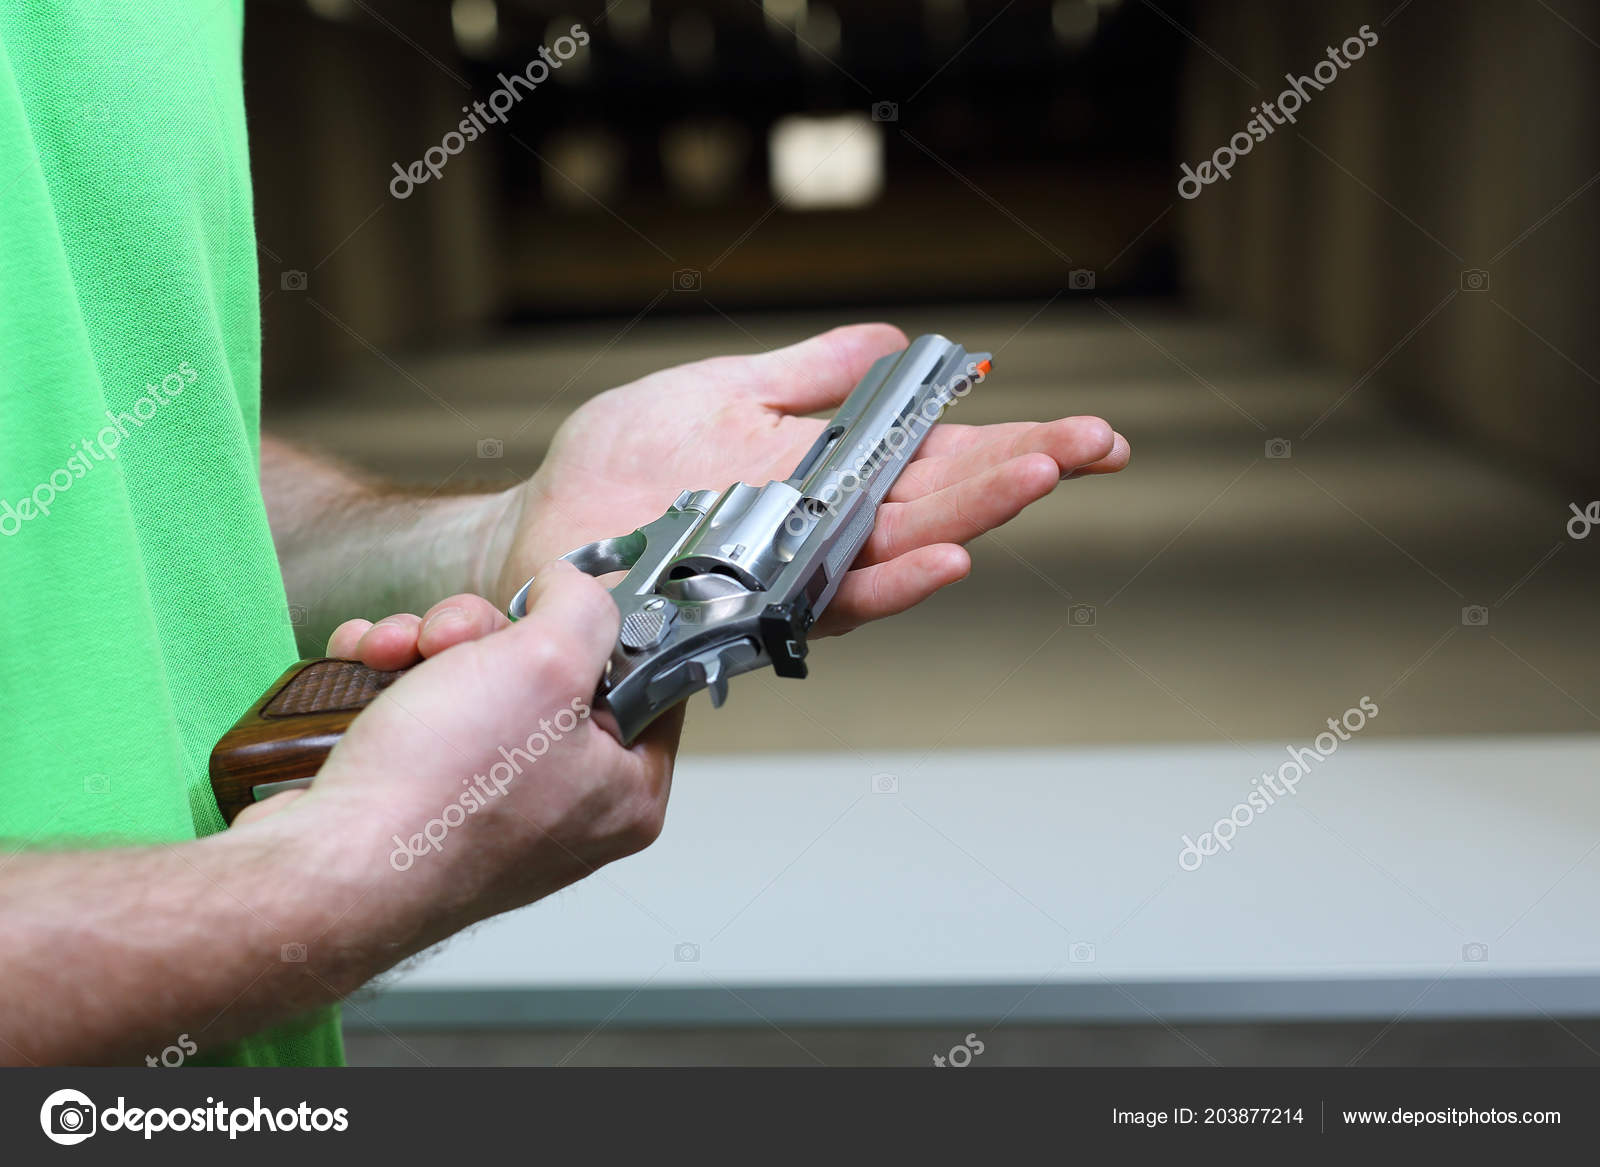Revolver: (202, 230, 1039, 823), (239, 432, 1157, 810)
